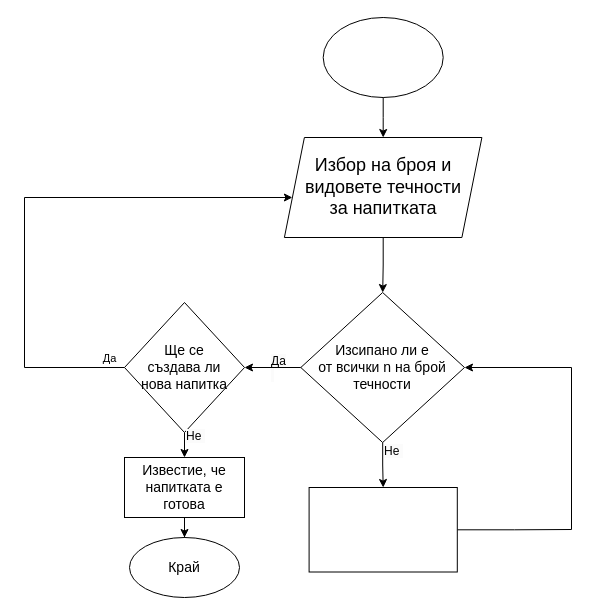
This 597x615 diagram has some shape labels left out. The box of each missing label's shape, as (x1, y1, x2, y2) in pixels:
Задействане на механизъм за сипване: (308, 486, 457, 572)
Начало: (322, 16, 443, 98)
